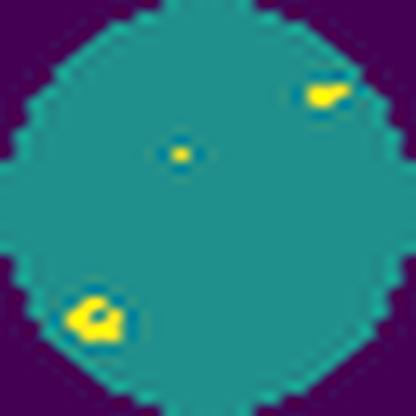Loc: (63, 293, 123, 348), (299, 78, 352, 111)
